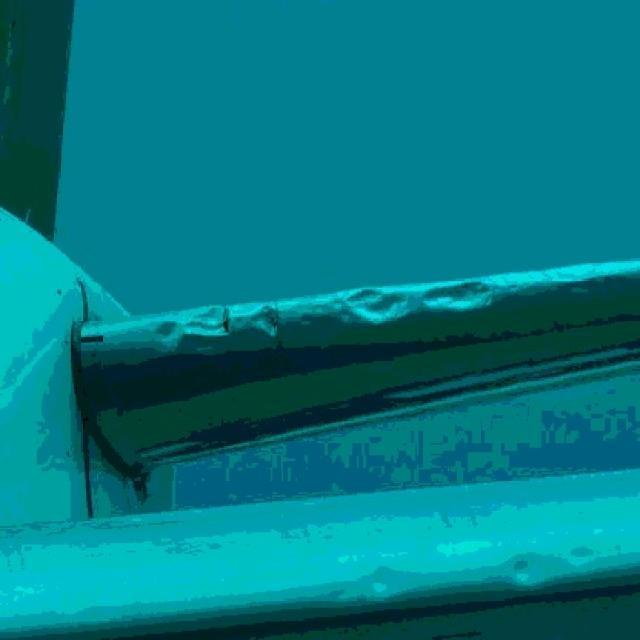dent: (345, 285, 410, 330), (420, 283, 491, 316), (185, 306, 233, 343), (505, 551, 539, 590), (249, 303, 283, 337), (365, 565, 398, 598), (152, 314, 183, 345)
